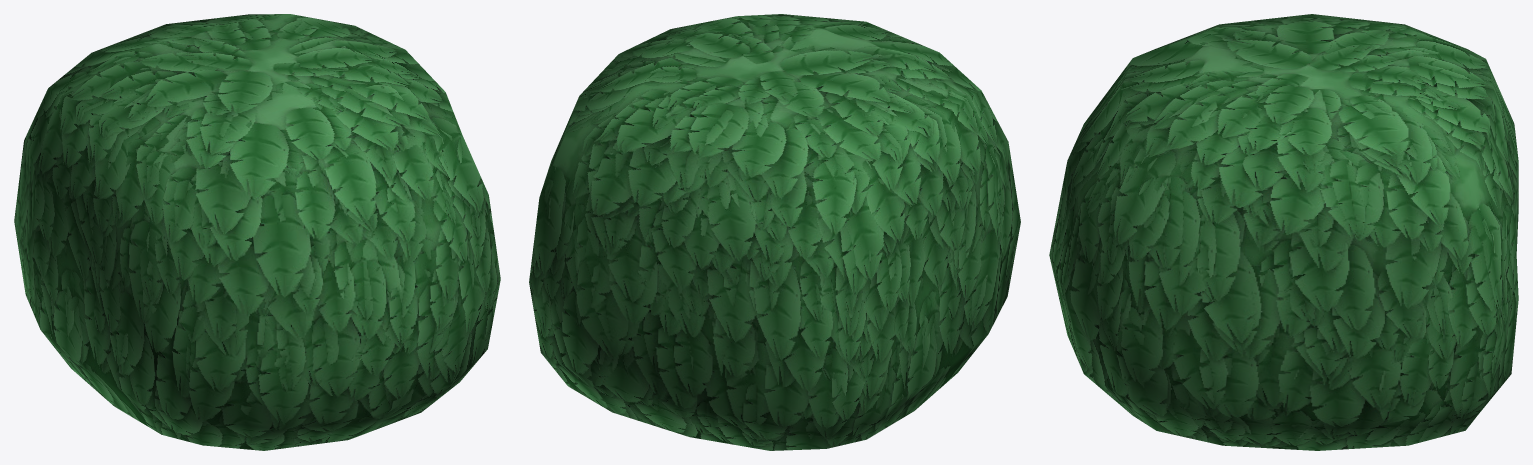
The model's file is bushsquare.glb.
3 views of the same model, side by side, from view 1: azimuth 30°, elevation 25°; view 2: azimuth 150°, elevation 25°; view 3: azimuth 270°, elevation 25° (orthographic). The views are drawn at different scales.
Parts seen in each view (by area): view 1: bushsquare; view 2: bushsquare; view 3: bushsquare.
Part boxes in pixels (x1,y1,x2,y2): bushsquare: (14, 14, 500, 450); bushsquare: (529, 14, 1020, 450); bushsquare: (1049, 14, 1518, 450).
Size of the model in its own units: 0.4528 by 0.3982 by 0.5249.
1 material, 1 textured.
